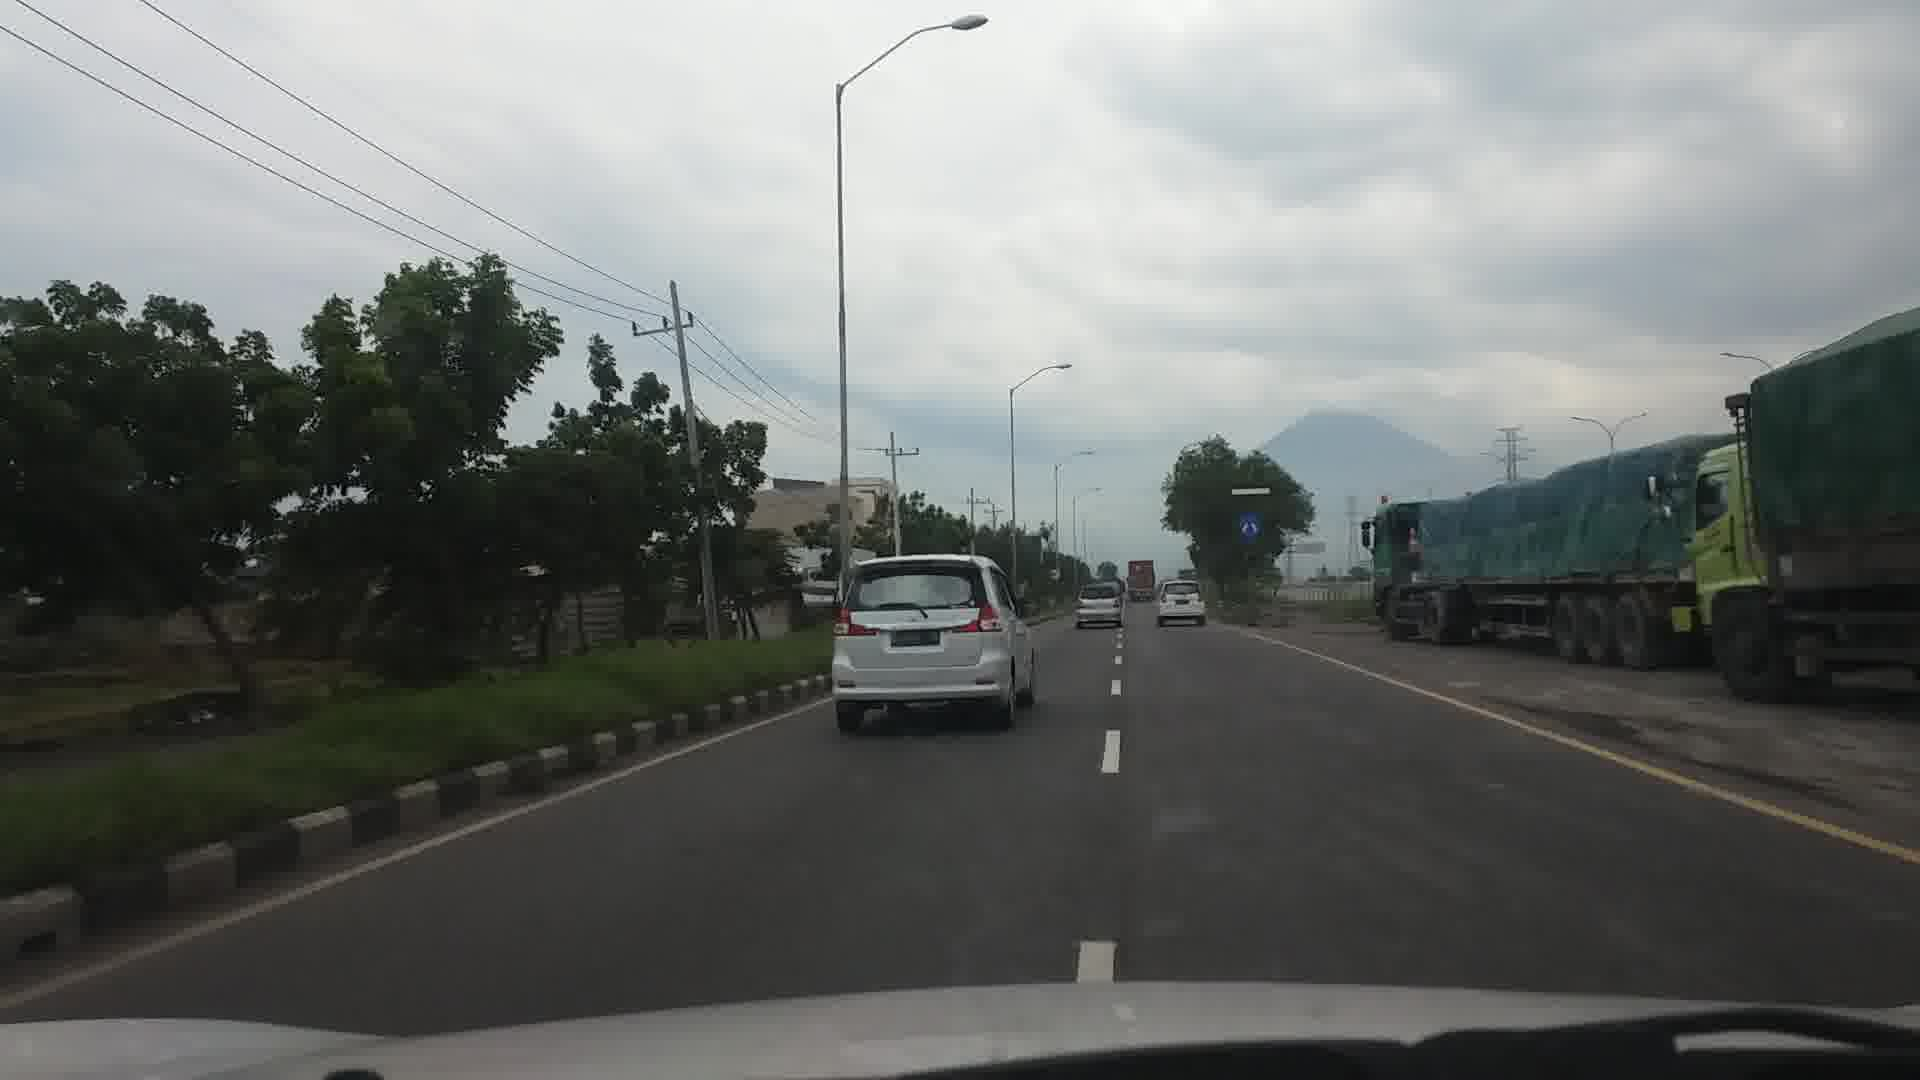plate_positive: (891, 630, 939, 646)
